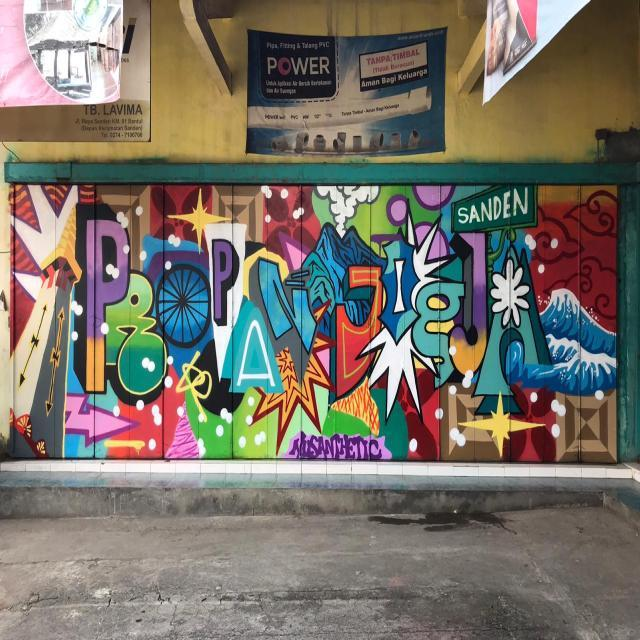-: (9, 184, 618, 466)
